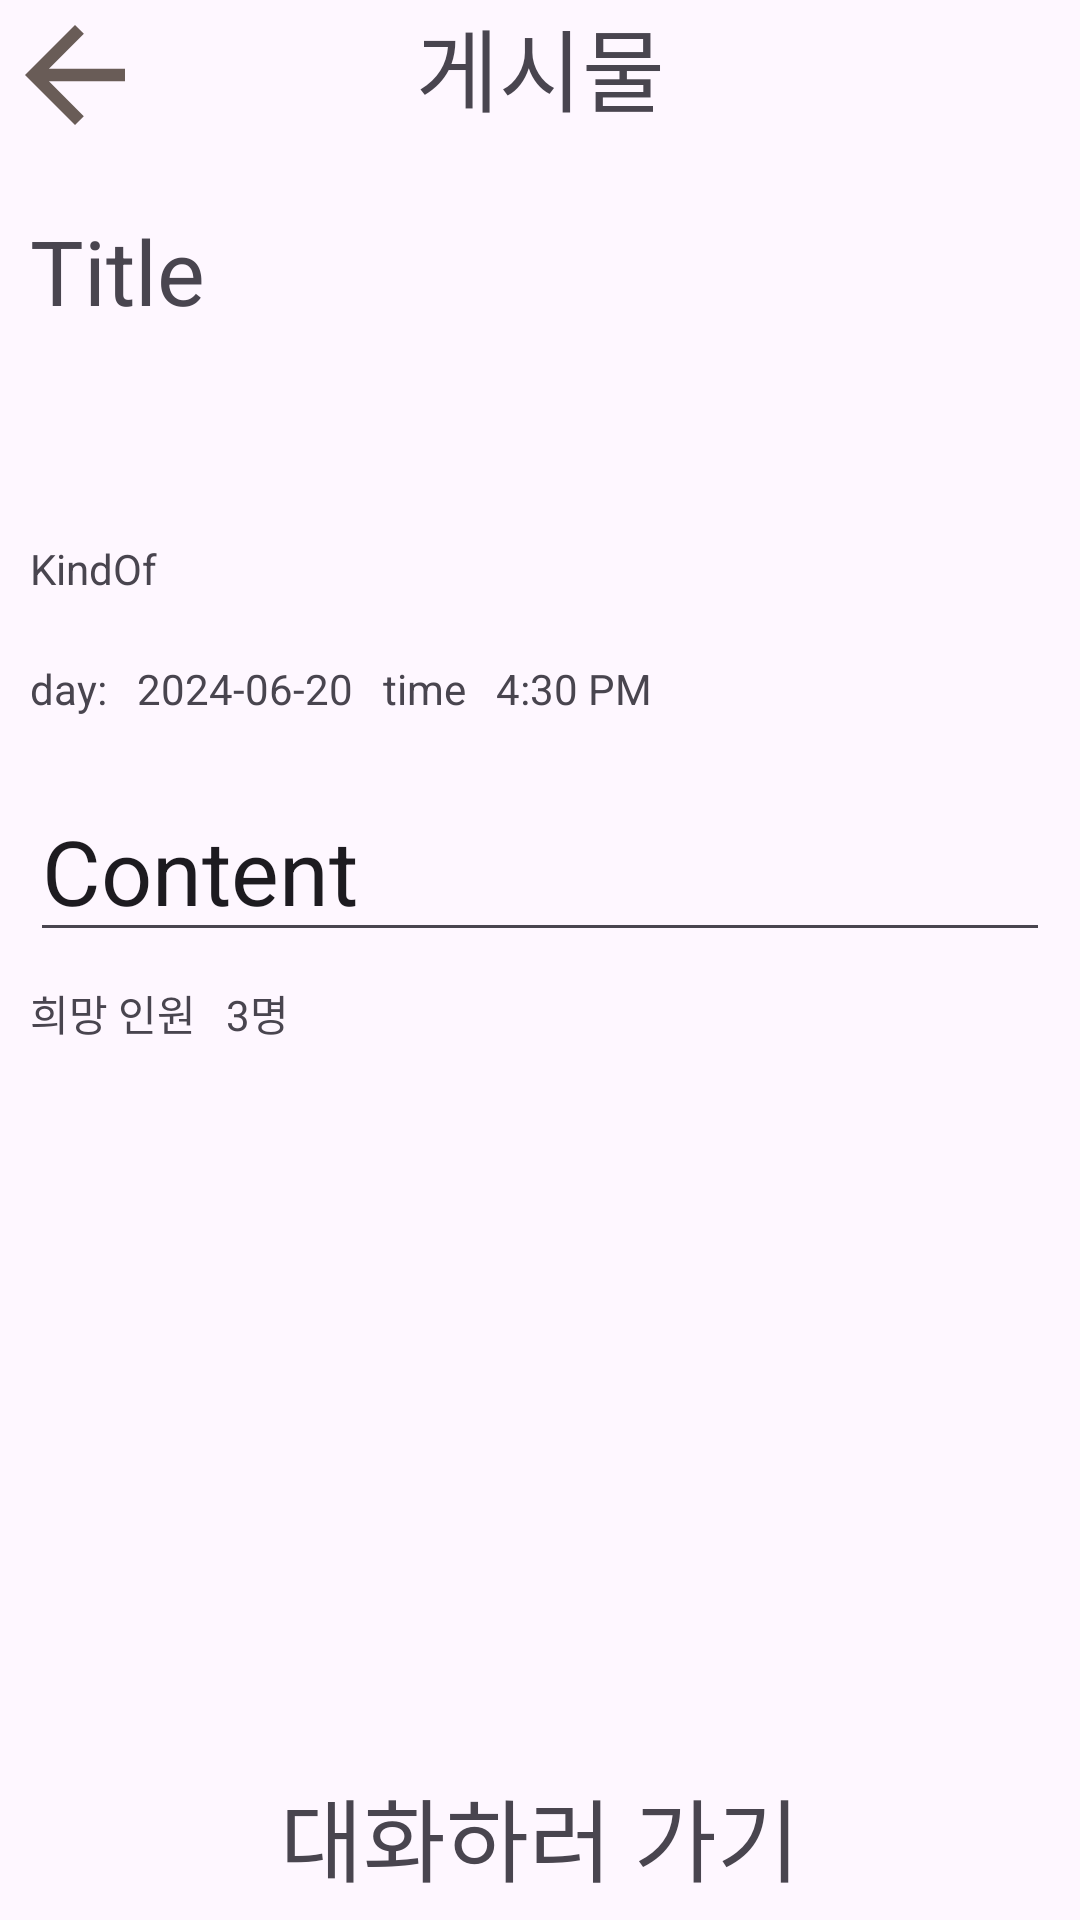

Locate icon controls on the screen. Image size 1080px x 1920px, boxes as region(x1, y1, x2, y2).
arrow back: region(25, 25, 125, 125)
